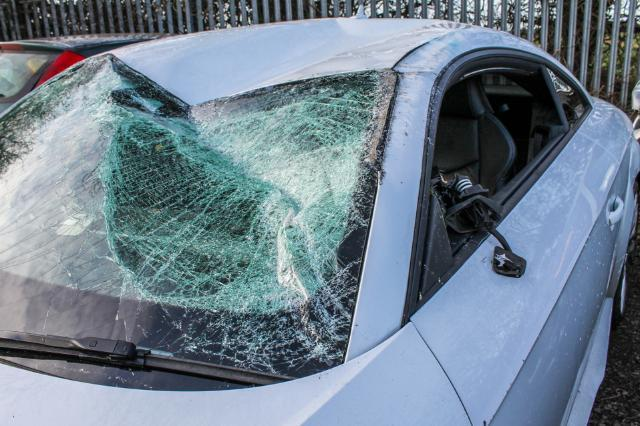Windshield: (11, 72, 349, 374)
